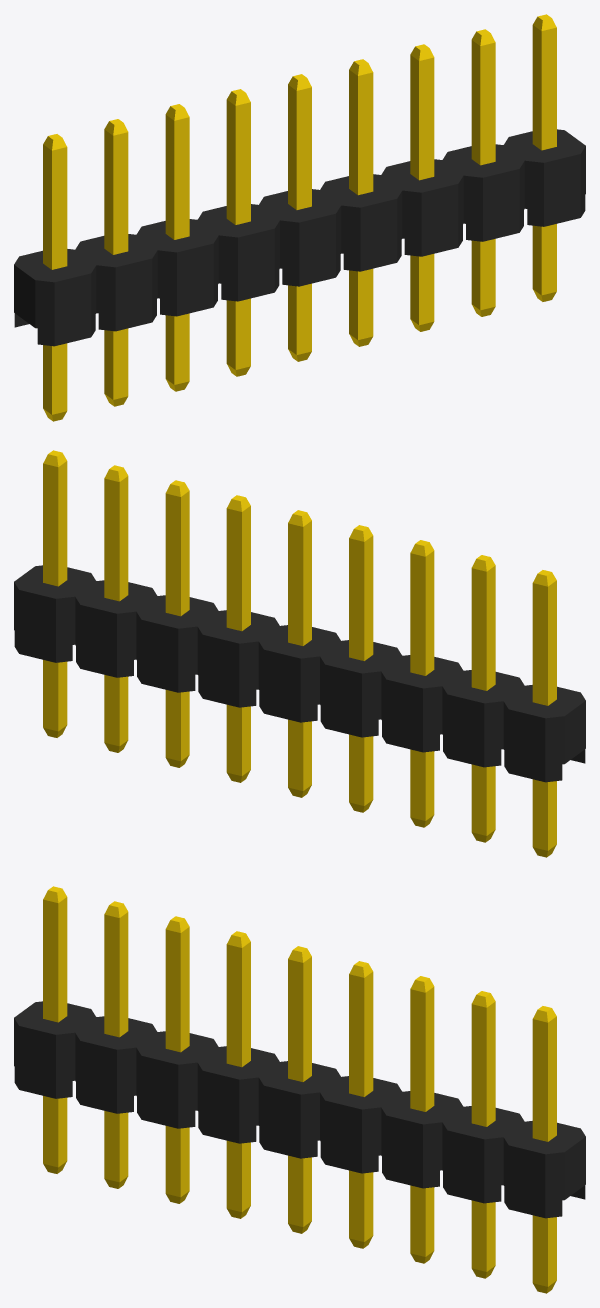
Rendered from PLS2-9.glb.
3 views of the same model, one above another, from view 1: azimuth 30°, elevation 25°; view 2: azimuth 150°, elevation 25°; view 3: azimuth 330°, elevation 25° (orthographic).
Parts seen in each view (by area): view 1: PLS2 (DS1025-01 CONNFLY); view 2: PLS2 (DS1025-01 CONNFLY); view 3: PLS2 (DS1025-01 CONNFLY).
Part boxes in pixels (bbox=[...]): PLS2 (DS1025-01 CONNFLY): bbox=[14, 14, 585, 421]; PLS2 (DS1025-01 CONNFLY): bbox=[14, 450, 585, 857]; PLS2 (DS1025-01 CONNFLY): bbox=[14, 886, 585, 1293].
Size of the model in its own units: 0.018 by 0.0088 by 0.002.
